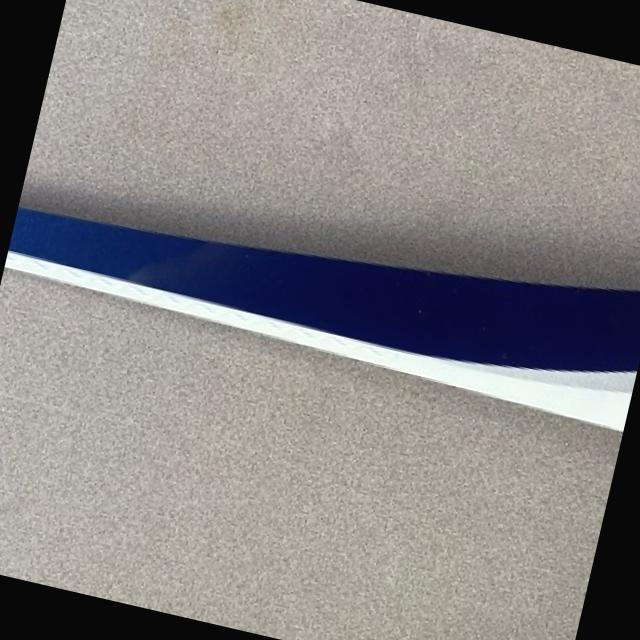healthy: (0, 267, 622, 640), (6, 205, 640, 429)
